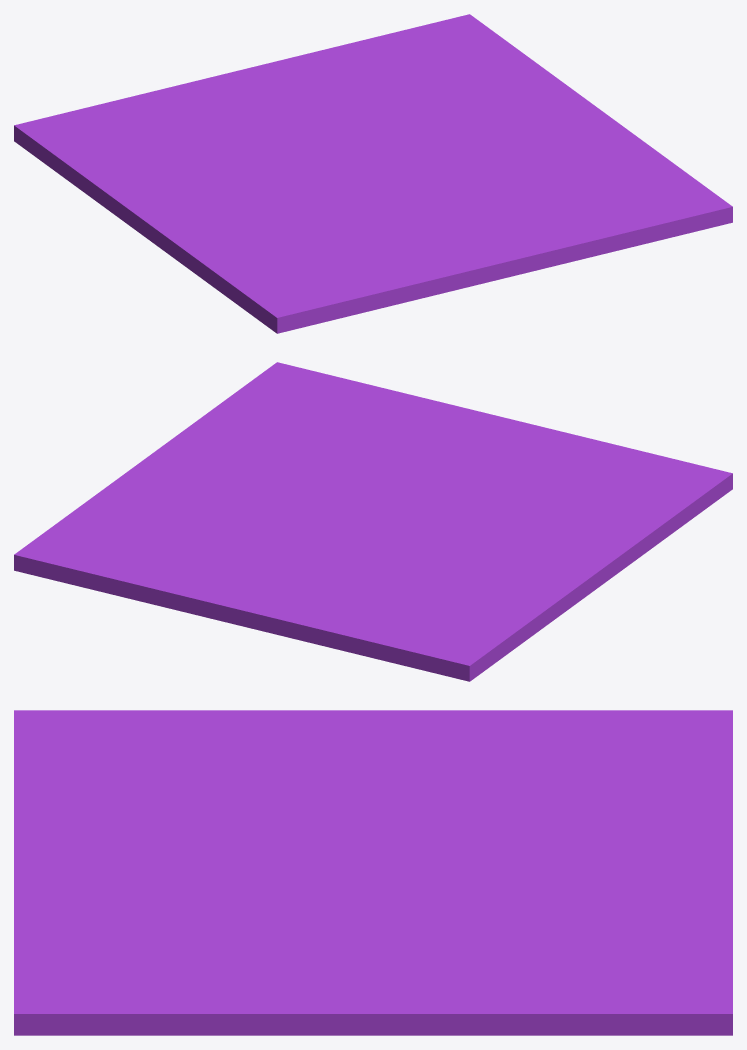
The model's file is Nothing.fbx.
The picture shows the model from 3 angles, top to bottom: view 1: azimuth 30°, elevation 25°; view 2: azimuth 150°, elevation 25°; view 3: azimuth 270°, elevation 25°; orthographic projection. The views are drawn at different scales.
Visible parts, largest first — view 1: 平面.006; view 2: 平面.006; view 3: 平面.006.
Part boxes in pixels (left/top/right/bottom): 平面.006: left=14, top=14, right=732, bottom=333; 平面.006: left=14, top=362, right=732, bottom=681; 平面.006: left=14, top=710, right=732, bottom=1035.
Bounding box in the file's own units: 200 × 6.65 × 200.
